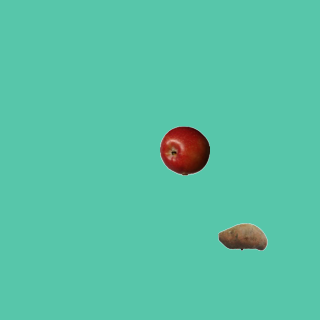Apple Braeburn: (159, 125, 209, 175)
Potato Sweet: (217, 211, 267, 261)
